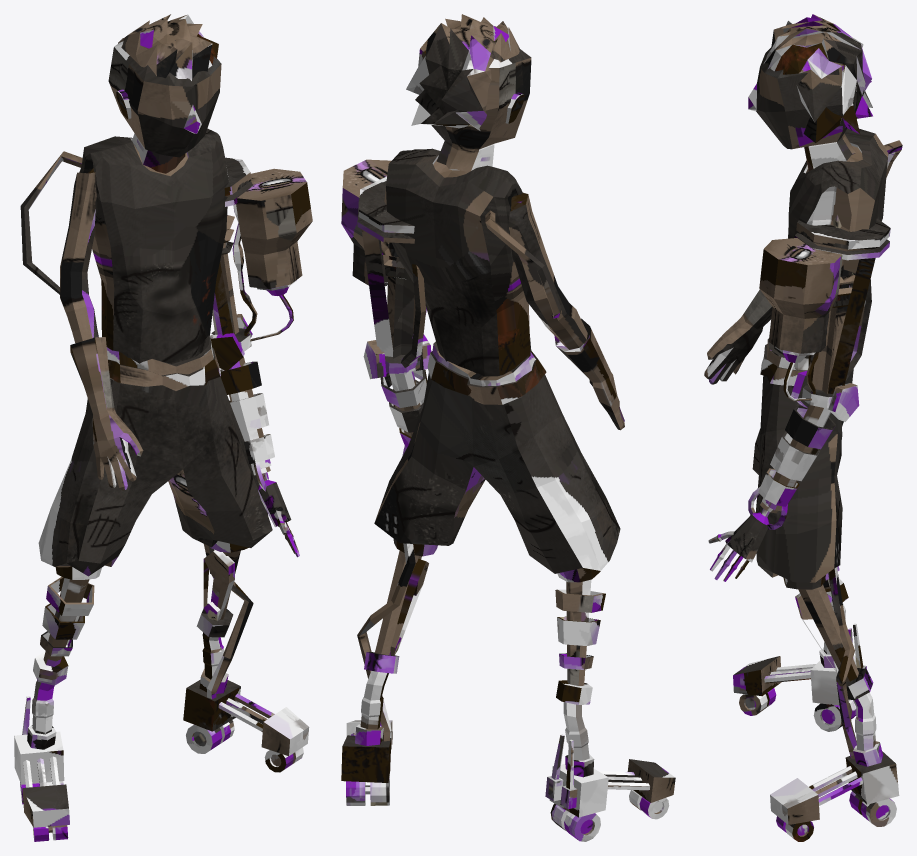
The model's file is CyborgFINALAnimation_000144.obj.
The picture shows the model from 3 angles, left to right: view 1: azimuth 30°, elevation 25°; view 2: azimuth 150°, elevation 25°; view 3: azimuth 270°, elevation 25°; orthographic projection. The views are drawn at different scales.
Visible parts, largest first — view 1: CyborgMesh_Cube.002; view 2: CyborgMesh_Cube.002; view 3: CyborgMesh_Cube.002.
Boxes of the visible parts, box(x1,y1,x2,y2) form: CyborgMesh_Cube.002: box(14, 14, 312, 841); CyborgMesh_Cube.002: box(341, 14, 675, 841); CyborgMesh_Cube.002: box(704, 14, 902, 841).
Size of the model in its own units: 3.94 by 9.62 by 2.27.
